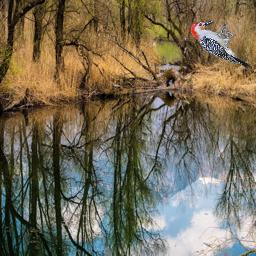Woodpecker: (191, 21, 250, 69)
